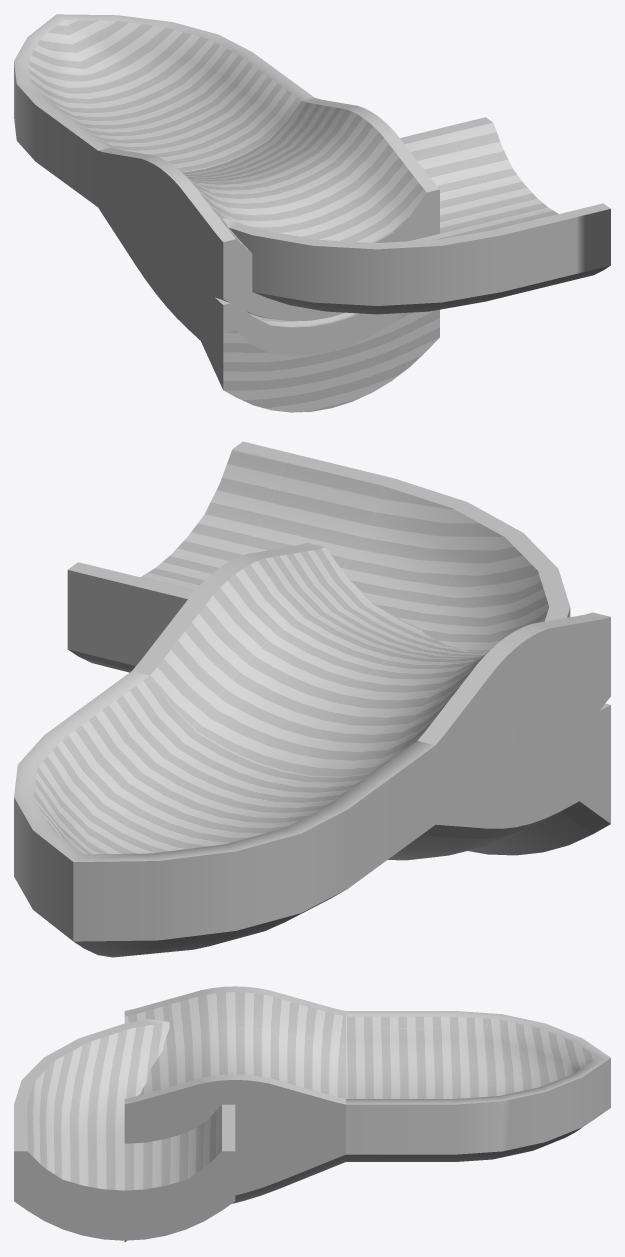
The model's file is Floor_2x4_Canal.fbx.
3 views of the same model, one above another, from view 1: azimuth 30°, elevation 25°; view 2: azimuth 150°, elevation 25°; view 3: azimuth 270°, elevation 25° (orthographic). The views are drawn at different scales.
Parts seen in each view (by area): view 1: Floor_2x4_Canal_cap, Floor_2x4_Canal_rotate, Floor_2x4_Canal_hill, Floor_2x4_Canal_ramp1, Floor_2x4_Canal_ramp2, Floor_2x4_Canal_deep; view 2: Floor_2x4_Canal_cap, Floor_2x4_Canal_hill, Floor_2x4_Canal_rotate, Floor_2x4_Canal_ramp2, Floor_2x4_Canal_ramp1, Floor_2x4_Canal_deep; view 3: Floor_2x4_Canal_cap, Floor_2x4_Canal_rotate, Floor_2x4_Canal_hill, Floor_2x4_Canal_ramp2, Floor_2x4_Canal_ramp1, Floor_2x4_Canal_deep, Floor_2x4_Canal_main.
Boxes of the visible parts, bbox=[...] form: Floor_2x4_Canal_cap: bbox=[14, 14, 314, 206]; Floor_2x4_Canal_rotate: bbox=[99, 117, 610, 314]; Floor_2x4_Canal_hill: bbox=[98, 98, 439, 321]; Floor_2x4_Canal_ramp1: bbox=[98, 152, 439, 412]; Floor_2x4_Canal_ramp2: bbox=[98, 151, 403, 359]; Floor_2x4_Canal_deep: bbox=[98, 154, 409, 321]; Floor_2x4_Canal_cap: bbox=[14, 671, 435, 957]; Floor_2x4_Canal_hill: bbox=[132, 542, 610, 823]; Floor_2x4_Canal_rotate: bbox=[67, 441, 570, 820]; Floor_2x4_Canal_ramp2: bbox=[388, 703, 610, 860]; Floor_2x4_Canal_ramp1: bbox=[435, 687, 610, 855]; Floor_2x4_Canal_deep: bbox=[435, 618, 610, 824]; Floor_2x4_Canal_cap: bbox=[346, 1011, 610, 1161]; Floor_2x4_Canal_rotate: bbox=[14, 1019, 344, 1240]; Floor_2x4_Canal_hill: bbox=[124, 986, 345, 1154]; Floor_2x4_Canal_ramp2: bbox=[232, 1105, 345, 1203]; Floor_2x4_Canal_ramp1: bbox=[124, 1104, 345, 1241]; Floor_2x4_Canal_deep: bbox=[124, 1105, 345, 1178]; Floor_2x4_Canal_main: bbox=[235, 1104, 345, 1154].
Size of the model in its own units: 600 by 388 by 1079.
